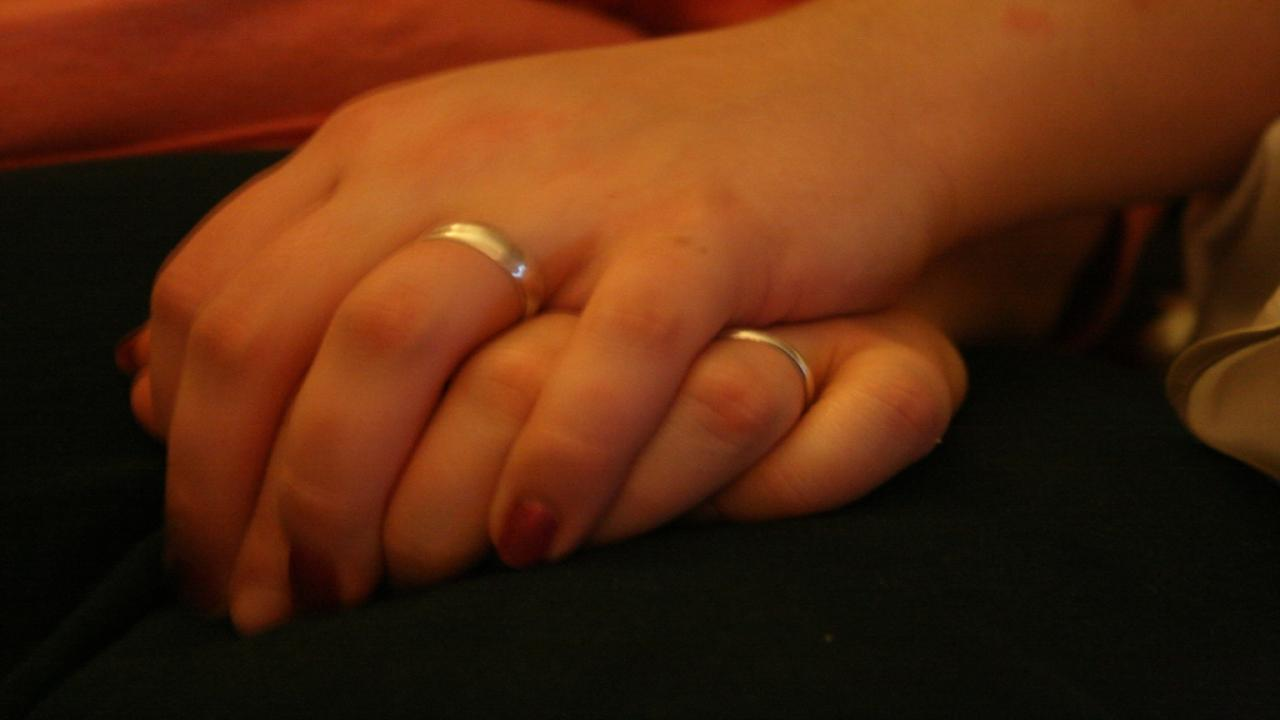ring: (418, 218, 550, 322), (718, 323, 822, 413)
